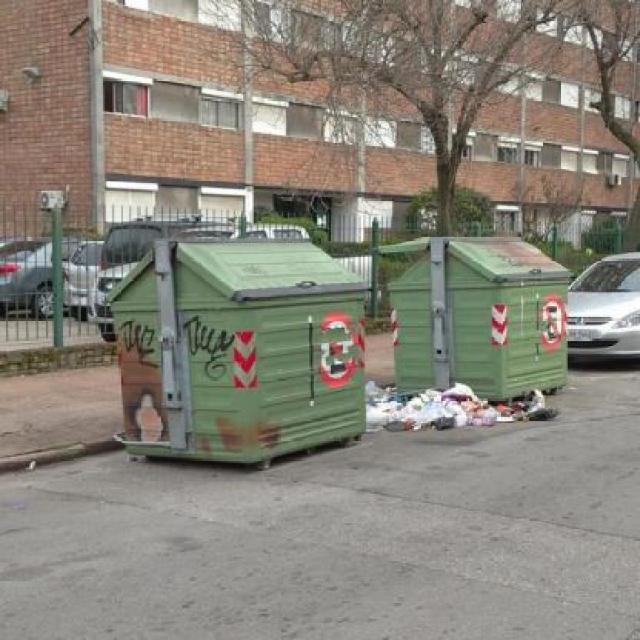garbage: (368, 376, 580, 430)
